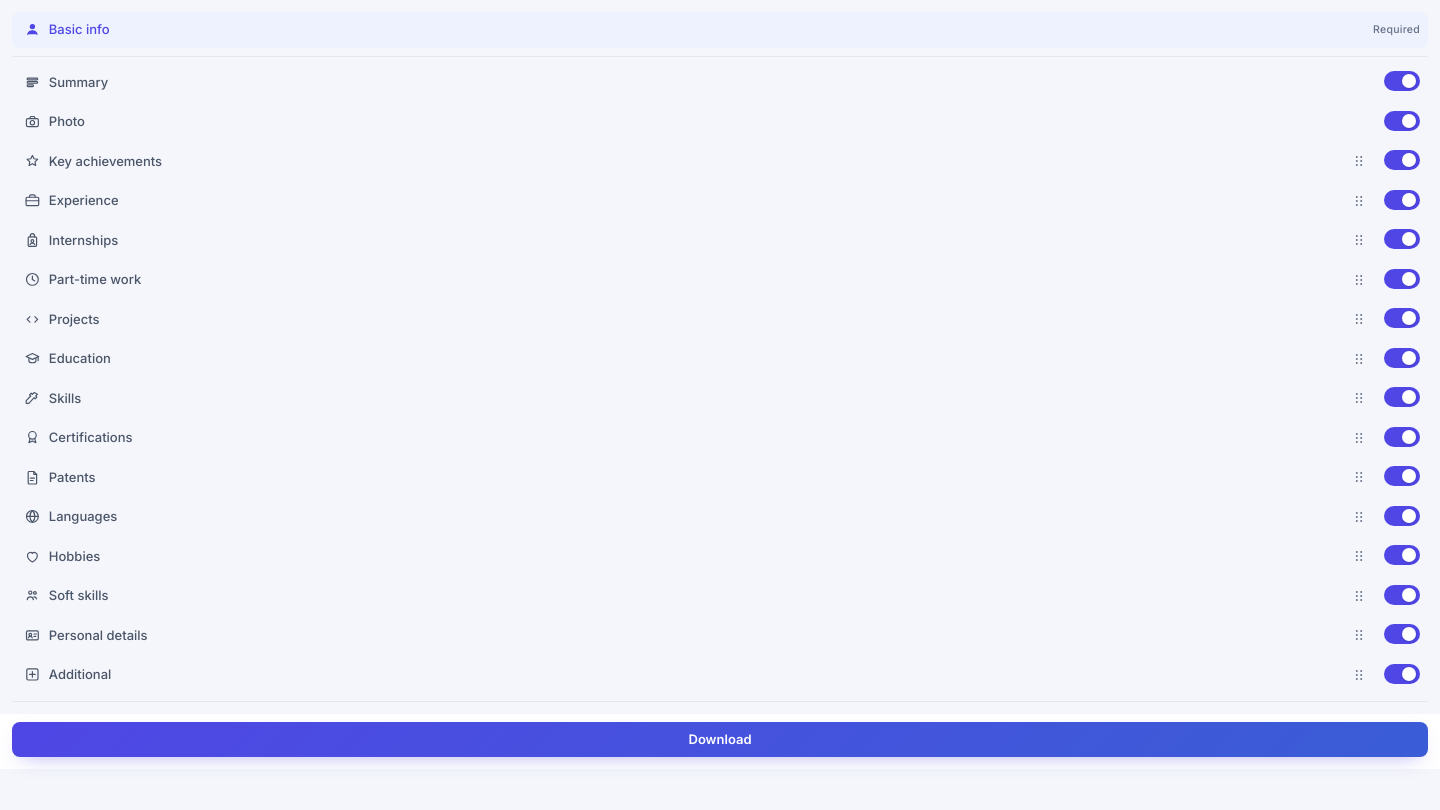
Test: SectionNav › reordering content sections › disables the reorder handle on a skipped section
Click the switch named "Skip Skills": [1402, 397] box 1384,387 -> 1420,407
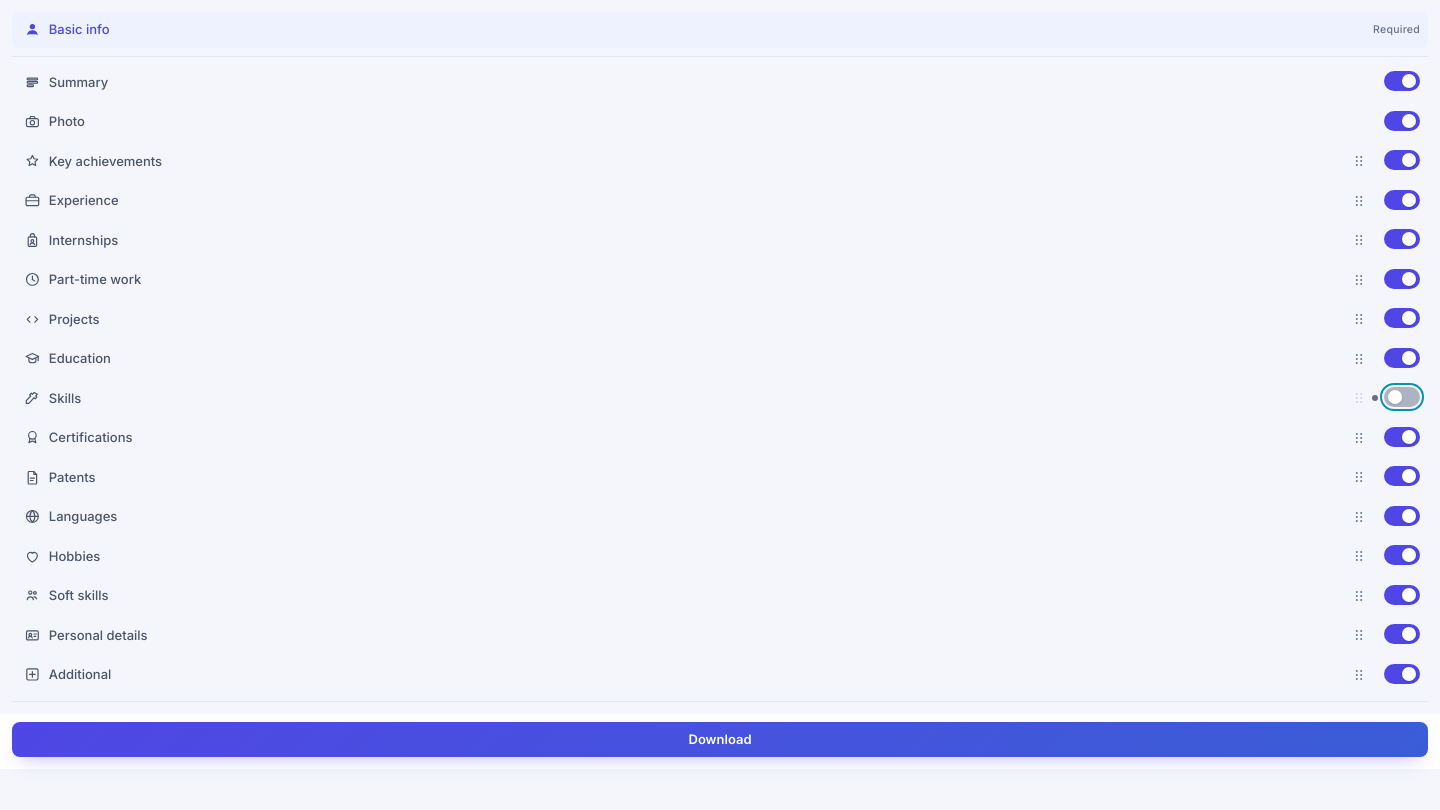
Expected: the button named "Skills is skipped and cannot be reordered" is disabled, 1352,391 -> 1366,405
